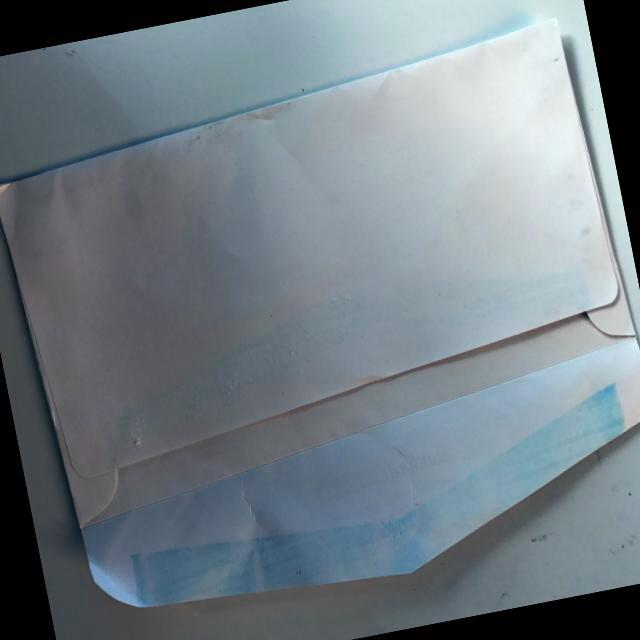paper: (0, 10, 640, 639)
